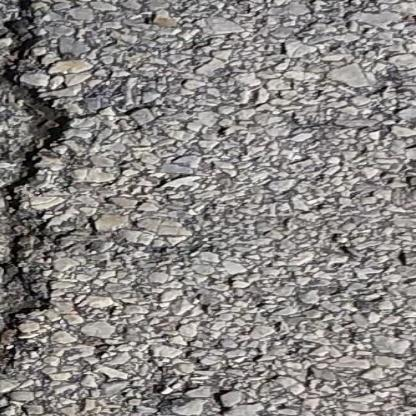Cracks: (0, 0, 84, 416)
